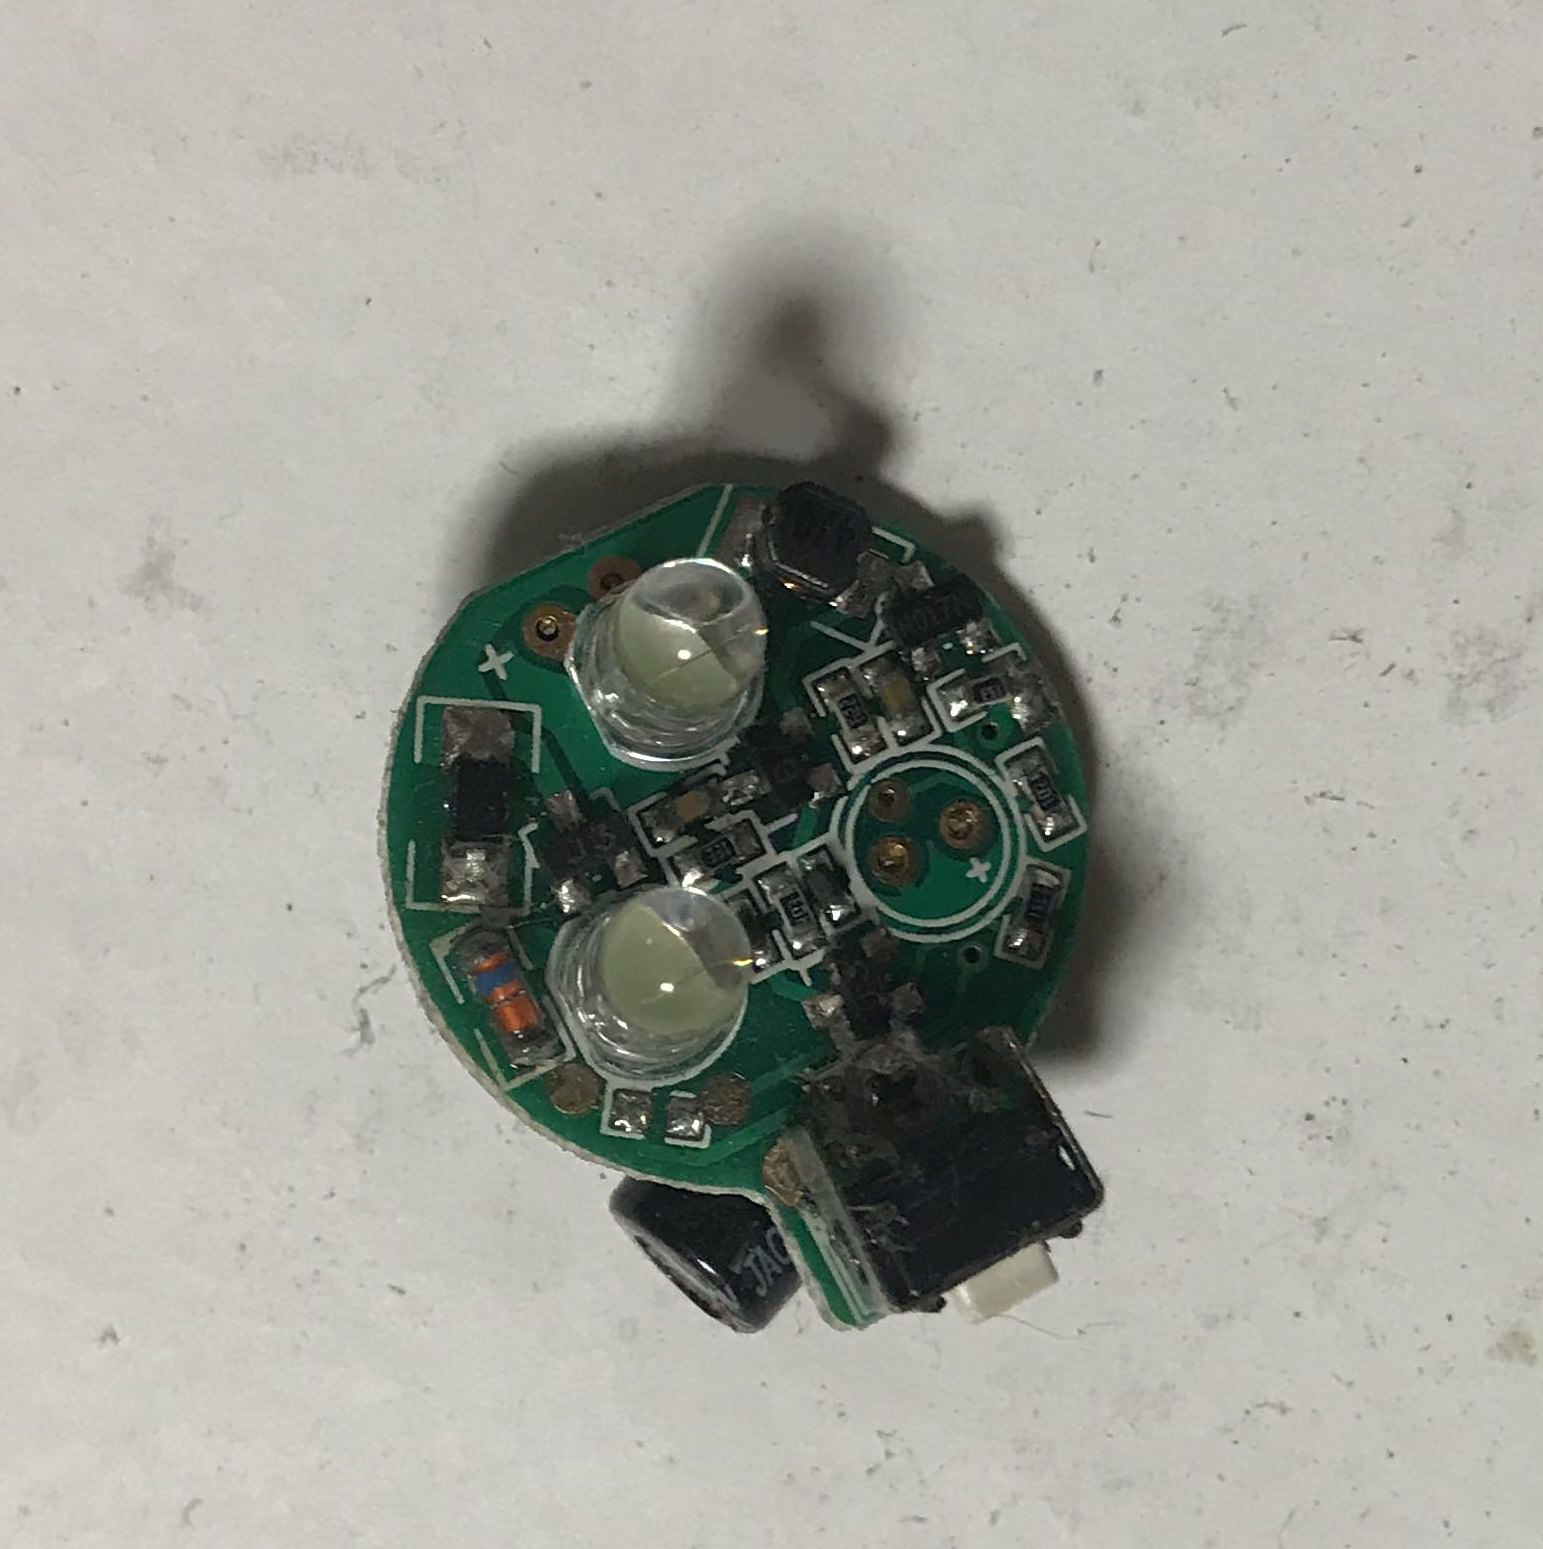Capacitor: (603, 1167, 810, 1336)
LED: (567, 550, 774, 769), (551, 878, 755, 1073)
